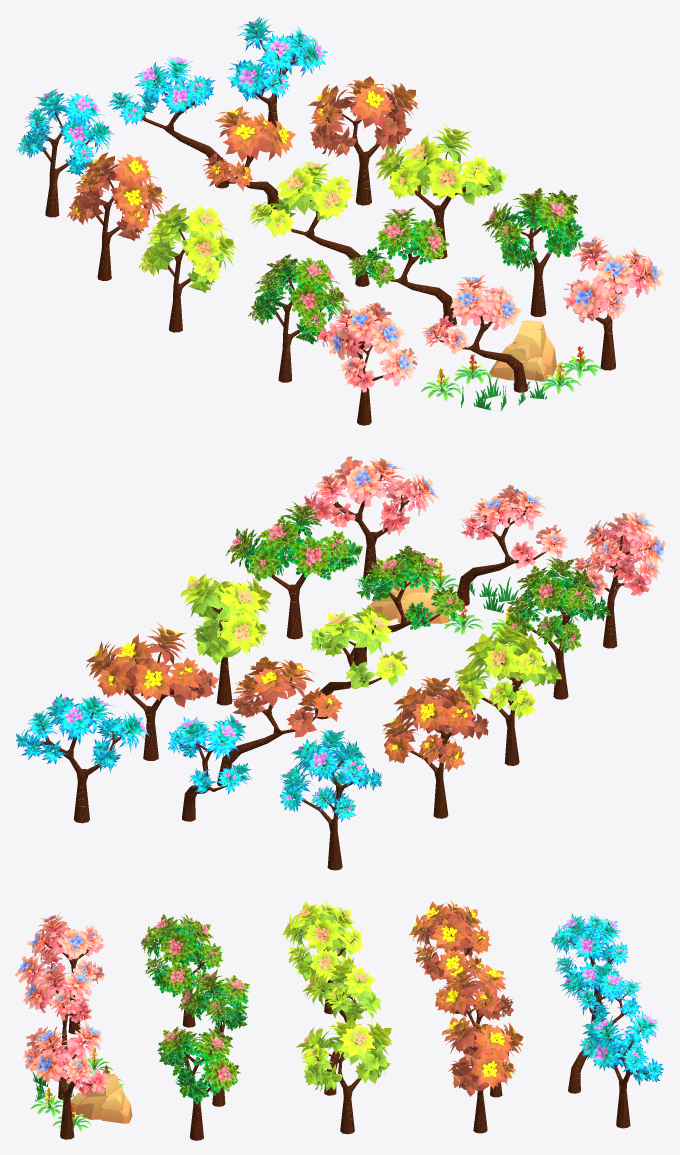
Rendered from NAT_TreesPainted.glb.
The picture shows the model from 3 angles, top to bottom: view 1: azimuth 30°, elevation 25°; view 2: azimuth 150°, elevation 25°; view 3: azimuth 270°, elevation 25°; orthographic projection. The views are drawn at different scales.
Visible parts, largest first — view 1: TRS3_1, TRS4_4, TRW2_8, TRW3_2, TRW4_3, TRS2_7, TRW1_10, TRS1_9, TRW5_6, TRT4_19, TRT2_17, TRS5_5 (+5 smaller); view 2: TRS4_4, TRS2_7, TRW4_3, TRW3_2, TRS1_9, TRW2_8, TRS3_1, TRS5_5, TRW5_6, TRW1_10, TRT3_18, TRT1_16 (+5 smaller); view 3: TRS3_1, TRW2_8, TRS4_4, TRS2_7, TRS1_9, TRW4_3, TRW3_2, TRS5_5, TRW1_10, TRW5_6, TRT3_18, TRT4_19 (+5 smaller).
Part boxes in pixels (<box>): TRS3_1: <box>373,123,507,259</box>; TRS4_4: <box>308,76,418,205</box>; TRW2_8: <box>247,254,351,382</box>; TRW3_2: <box>138,203,238,332</box>; TRW4_3: <box>67,152,166,280</box>; TRS2_7: <box>482,188,584,316</box>; TRW1_10: <box>316,302,417,425</box>; TRS1_9: <box>562,236,663,370</box>; TRW5_6: <box>16,88,114,217</box>; TRT4_19: <box>248,161,369,286</box>; TRT2_17: <box>347,207,456,325</box>; TRS5_5: <box>227,17,327,143</box>; TRS4_4: <box>86,622,218,760</box>; TRS2_7: <box>225,501,362,639</box>; TRW4_3: <box>382,676,488,818</box>; TRW3_2: <box>453,623,561,765</box>; TRS1_9: <box>303,456,439,584</box>; TRW2_8: <box>506,556,610,699</box>; TRS3_1: <box>180,573,271,705</box>; TRS5_5: <box>16,693,149,823</box>; TRW5_6: <box>279,728,382,870</box>; TRW1_10: <box>573,511,665,648</box>; TRT3_18: <box>217,656,342,786</box>; TRT1_16: <box>457,484,568,606</box>; TRS3_1: <box>296,1018,392,1134</box>; TRW2_8: <box>141,913,223,1027</box>; TRS4_4: <box>441,1016,523,1133</box>; TRS2_7: <box>157,1025,240,1140</box>; TRS1_9: <box>23,1022,107,1139</box>; TRW4_3: <box>409,900,491,1013</box>; TRW3_2: <box>282,900,363,1014</box>; TRS5_5: <box>579,1010,663,1128</box>; TRW1_10: <box>15,912,107,1034</box>; TRW5_6: <box>551,913,628,1022</box>; TRT3_18: <box>435,962,513,1097</box>; TRT4_19: <box>302,959,381,1095</box>.
Bounding box in the file's own units: 23.79 × 7.8 × 39.73.
2 materials, 2 textured.
